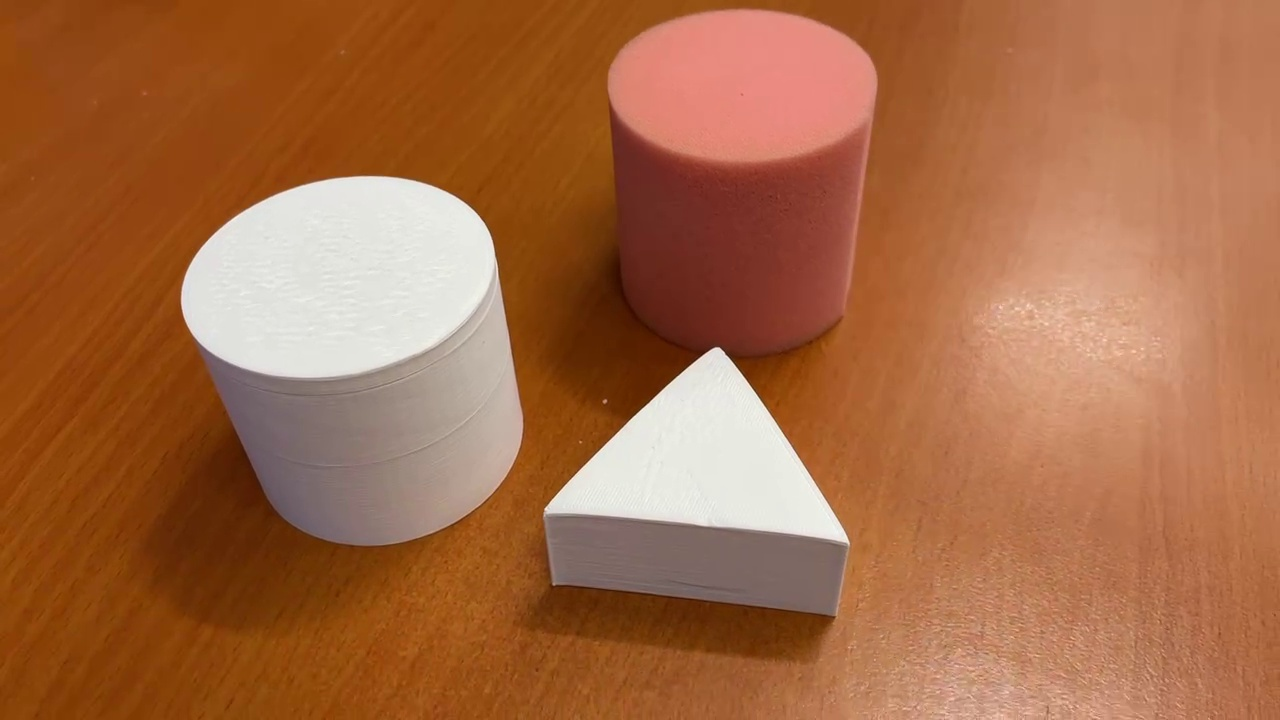Cylinder: (168, 164, 530, 554), (601, 5, 882, 366)
Triangle_short: (540, 340, 854, 628)
